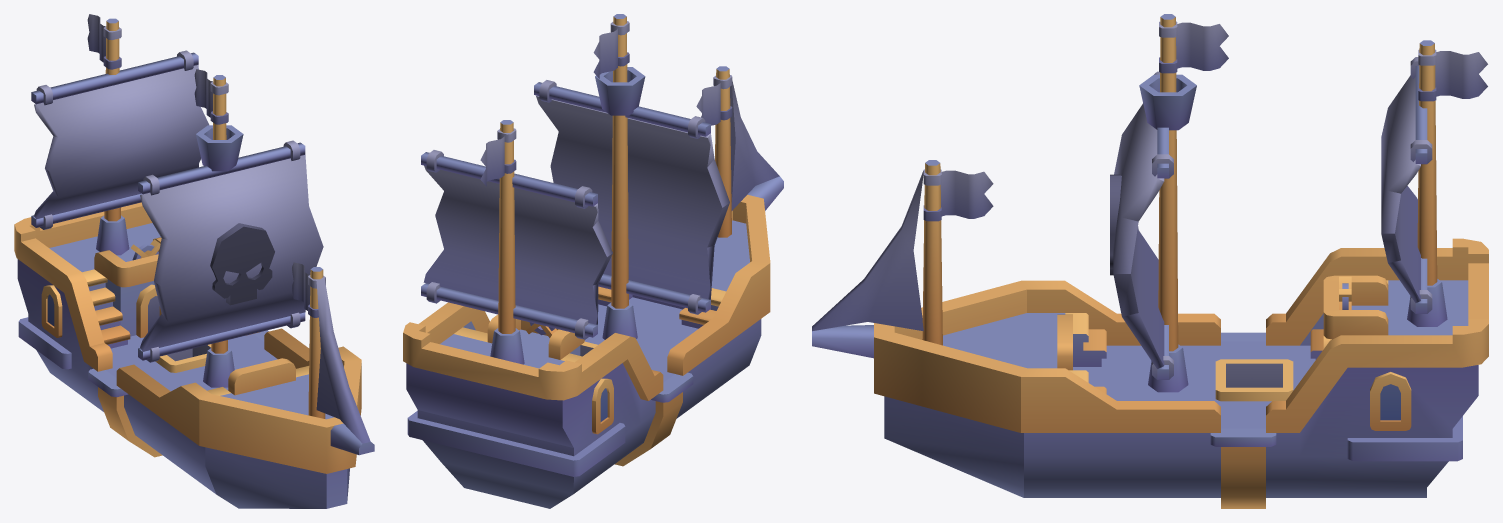
The model's file is ship-pirate-large.fbx.
The picture shows the model from 3 angles, left to right: view 1: azimuth 30°, elevation 25°; view 2: azimuth 150°, elevation 25°; view 3: azimuth 270°, elevation 25°; orthographic projection. The views are drawn at different scales.
Parts seen in each view (by area): view 1: ship-pirate-large, sail-a, sail-b, flag-c_1, flag-c_2, flag-c; view 2: ship-pirate-large, sail-a, sail-b, flag-c_2, flag-c_1, flag-c; view 3: ship-pirate-large, sail-a, sail-b, flag-c, flag-c_1, flag-c_2.
Boxes of the visible parts, left/top/right/bottom form: ship-pirate-large: left=14, top=18, right=374, bottom=508; sail-a: left=138, top=140, right=323, bottom=362; sail-b: left=31, top=50, right=209, bottom=229; flag-c_1: left=194, top=69, right=228, bottom=124; flag-c_2: left=87, top=14, right=121, bottom=69; flag-c: left=291, top=262, right=325, bottom=317; ship-pirate-large: left=403, top=14, right=783, bottom=508; sail-a: left=534, top=80, right=729, bottom=314; sail-b: left=421, top=150, right=612, bottom=339; flag-c_2: left=480, top=128, right=516, bottom=186; flag-c_1: left=593, top=21, right=629, bottom=78; flag-c: left=696, top=75, right=732, bottom=125; ship-pirate-large: left=812, top=14, right=1488, bottom=508; sail-a: left=1110, top=71, right=1173, bottom=379; sail-b: left=1381, top=57, right=1432, bottom=313; flag-c: left=923, top=169, right=993, bottom=221; flag-c_1: left=1159, top=21, right=1228, bottom=73; flag-c_2: left=1418, top=49, right=1487, bottom=101.
Size of the model in its own units: 480 by 996 by 1310.
